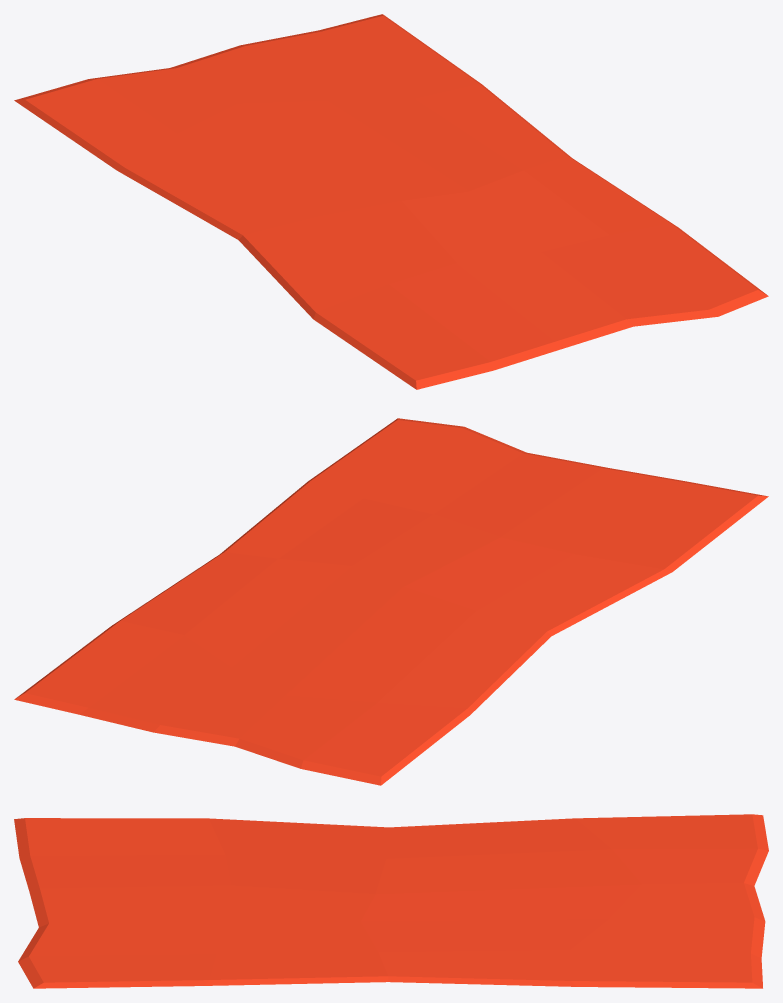
Rendered from SM_Blanket_Beach_B_City.fbx.
3 renders of one model, top to bottom at view 1: azimuth 30°, elevation 25°; view 2: azimuth 150°, elevation 25°; view 3: azimuth 270°, elevation 25°, orthographic. The views are drawn at different scales.
Parts seen in each view (by area): view 1: SM_Blanket_Beach_B_City; view 2: SM_Blanket_Beach_B_City; view 3: SM_Blanket_Beach_B_City.
Boxes of the visible parts, bbox=[...] form: SM_Blanket_Beach_B_City: bbox=[14, 14, 768, 389]; SM_Blanket_Beach_B_City: bbox=[14, 418, 768, 785]; SM_Blanket_Beach_B_City: bbox=[14, 814, 768, 988].
Size of the model in its own units: 1.04 by 0.0256 by 1.96.
